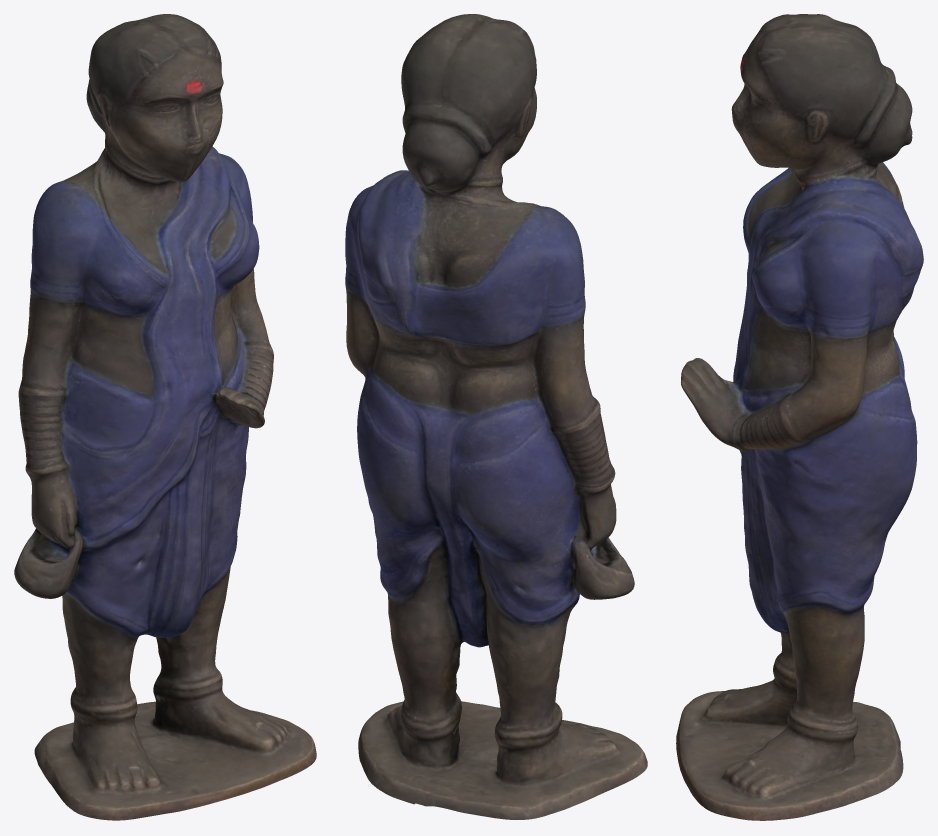
Rendered from female-with-blue-saree.glb.
3 views of the same model, side by side, from view 1: azimuth 30°, elevation 25°; view 2: azimuth 150°, elevation 25°; view 3: azimuth 270°, elevation 25° (orthographic). The views are drawn at different scales.
Parts seen in each view (by area): view 1: 04 - Female with blue saree; view 2: 04 - Female with blue saree; view 3: 04 - Female with blue saree.
Part boxes in pixels (<box>): 04 - Female with blue saree: <box>14,14,316,820</box>; 04 - Female with blue saree: <box>345,14,647,819</box>; 04 - Female with blue saree: <box>676,14,923,820</box>.
Size of the model in its own units: 18.58 by 47.64 by 14.53.
Materials: 2 (1 with a texture image).
